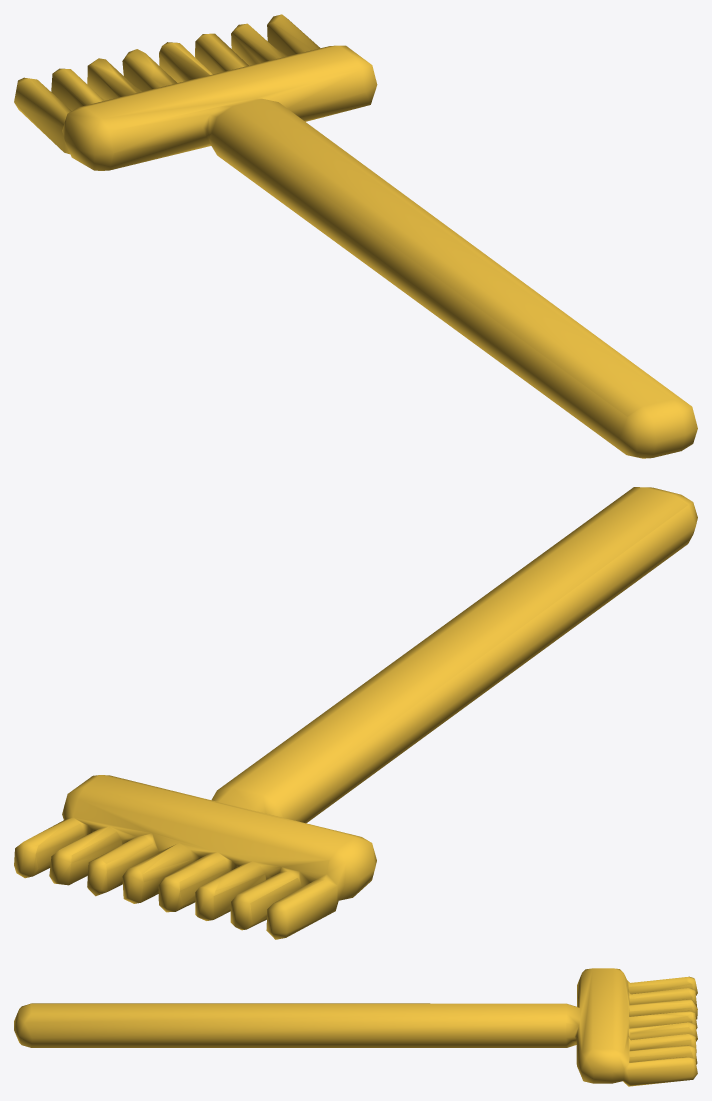
File: shore_toy_rake_lod2.glb
3 views of the same model, one above another, from view 1: azimuth 30°, elevation 25°; view 2: azimuth 150°, elevation 25°; view 3: azimuth 270°, elevation 25° (orthographic). The views are drawn at different scales.
Parts seen in each view (by area): view 1: shore_toy_rake.001; view 2: shore_toy_rake.001; view 3: shore_toy_rake.001.
Part boxes in pixels (<box>): shore_toy_rake.001: <box>14,14,697,458</box>; shore_toy_rake.001: <box>14,487,697,939</box>; shore_toy_rake.001: <box>14,968,697,1086</box>.
Bounding box in the file's own units: 7.05 × 1.31 × 21.61.
